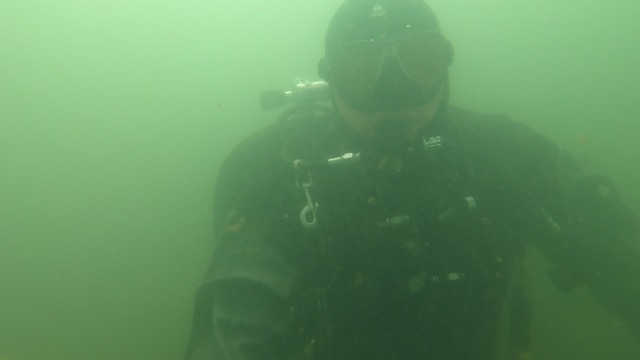Diver: (187, 5, 633, 356)
Head: (292, 12, 481, 171)
